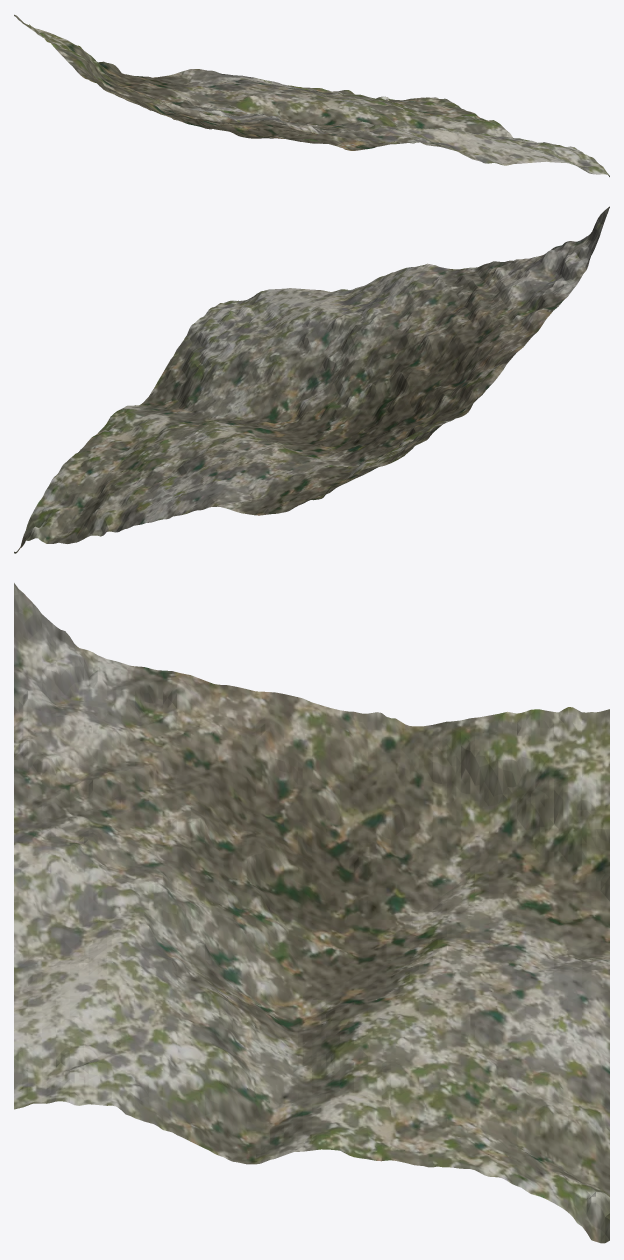
The picture shows the model from 3 angles, top to bottom: view 1: azimuth 30°, elevation 25°; view 2: azimuth 150°, elevation 25°; view 3: azimuth 270°, elevation 25°; orthographic projection. The views are drawn at different scales.
Bounding box in the file's own units: 250 × 179 × 241.
Materials: 1 (1 with a texture image).
